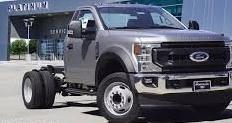Trucks: (23, 7, 232, 123)
